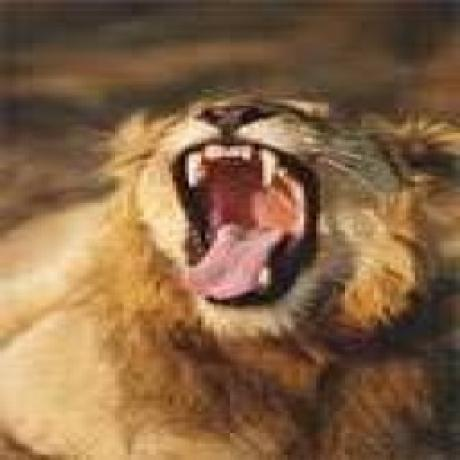Lion: (0, 82, 460, 460)
